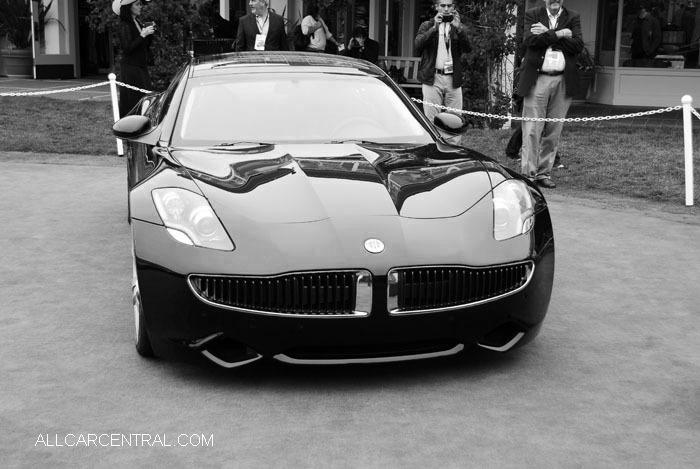car: (112, 51, 559, 376)
